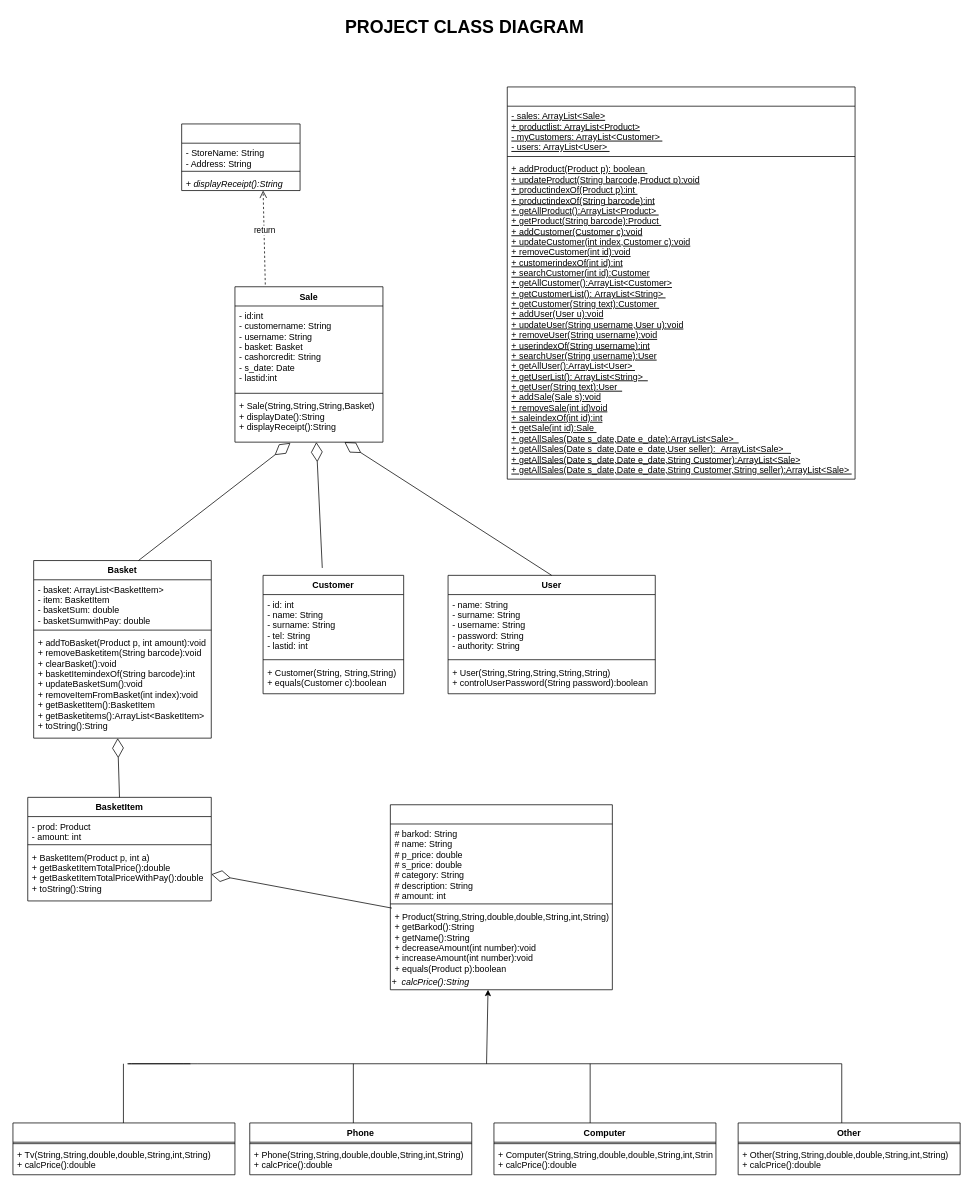
Image size: 973x1189. Some labels were removed from this diagram. Each missing label, with the box of its shape:
Product(abstract): (390, 804, 612, 990)
Receipt(interface): (181, 123, 300, 191)
SystemClass: (507, 86, 855, 479)
Tv: (12, 1122, 235, 1175)
